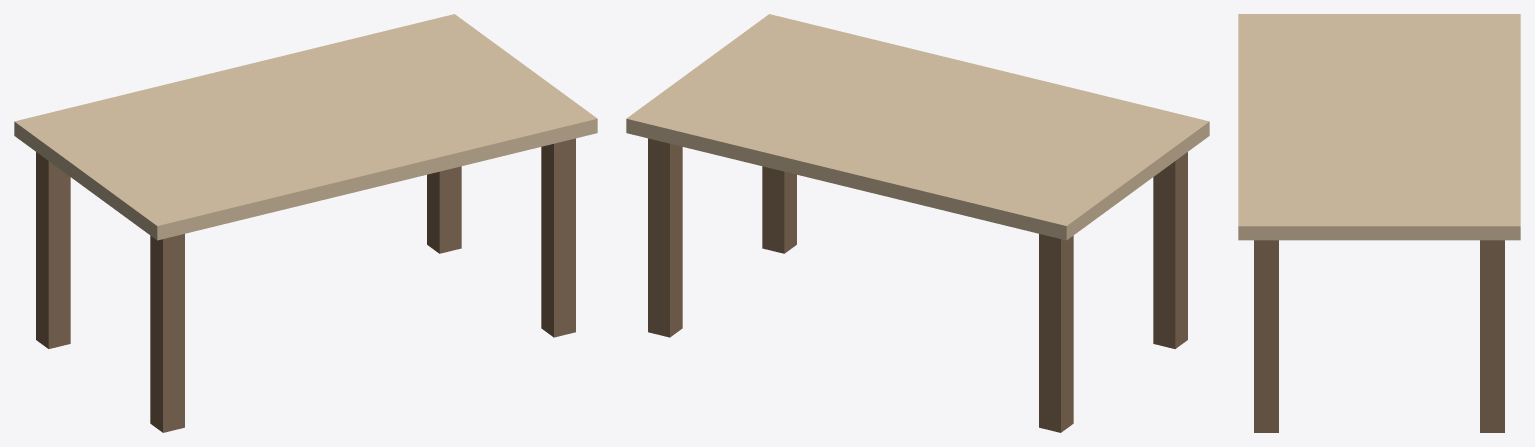
File: table.glb
3 views of the same model, side by side, from view 1: azimuth 30°, elevation 25°; view 2: azimuth 150°, elevation 25°; view 3: azimuth 270°, elevation 25° (orthographic).
Visible parts, largest first — view 1: table; view 2: table; view 3: table.
Part boxes in pixels (left/top/right/bottom): table: left=14, top=14, right=597, bottom=432; table: left=626, top=14, right=1209, bottom=432; table: left=1238, top=14, right=1520, bottom=432.
Bounding box in the file's own units: 1.6 × 0.75 × 0.9.
